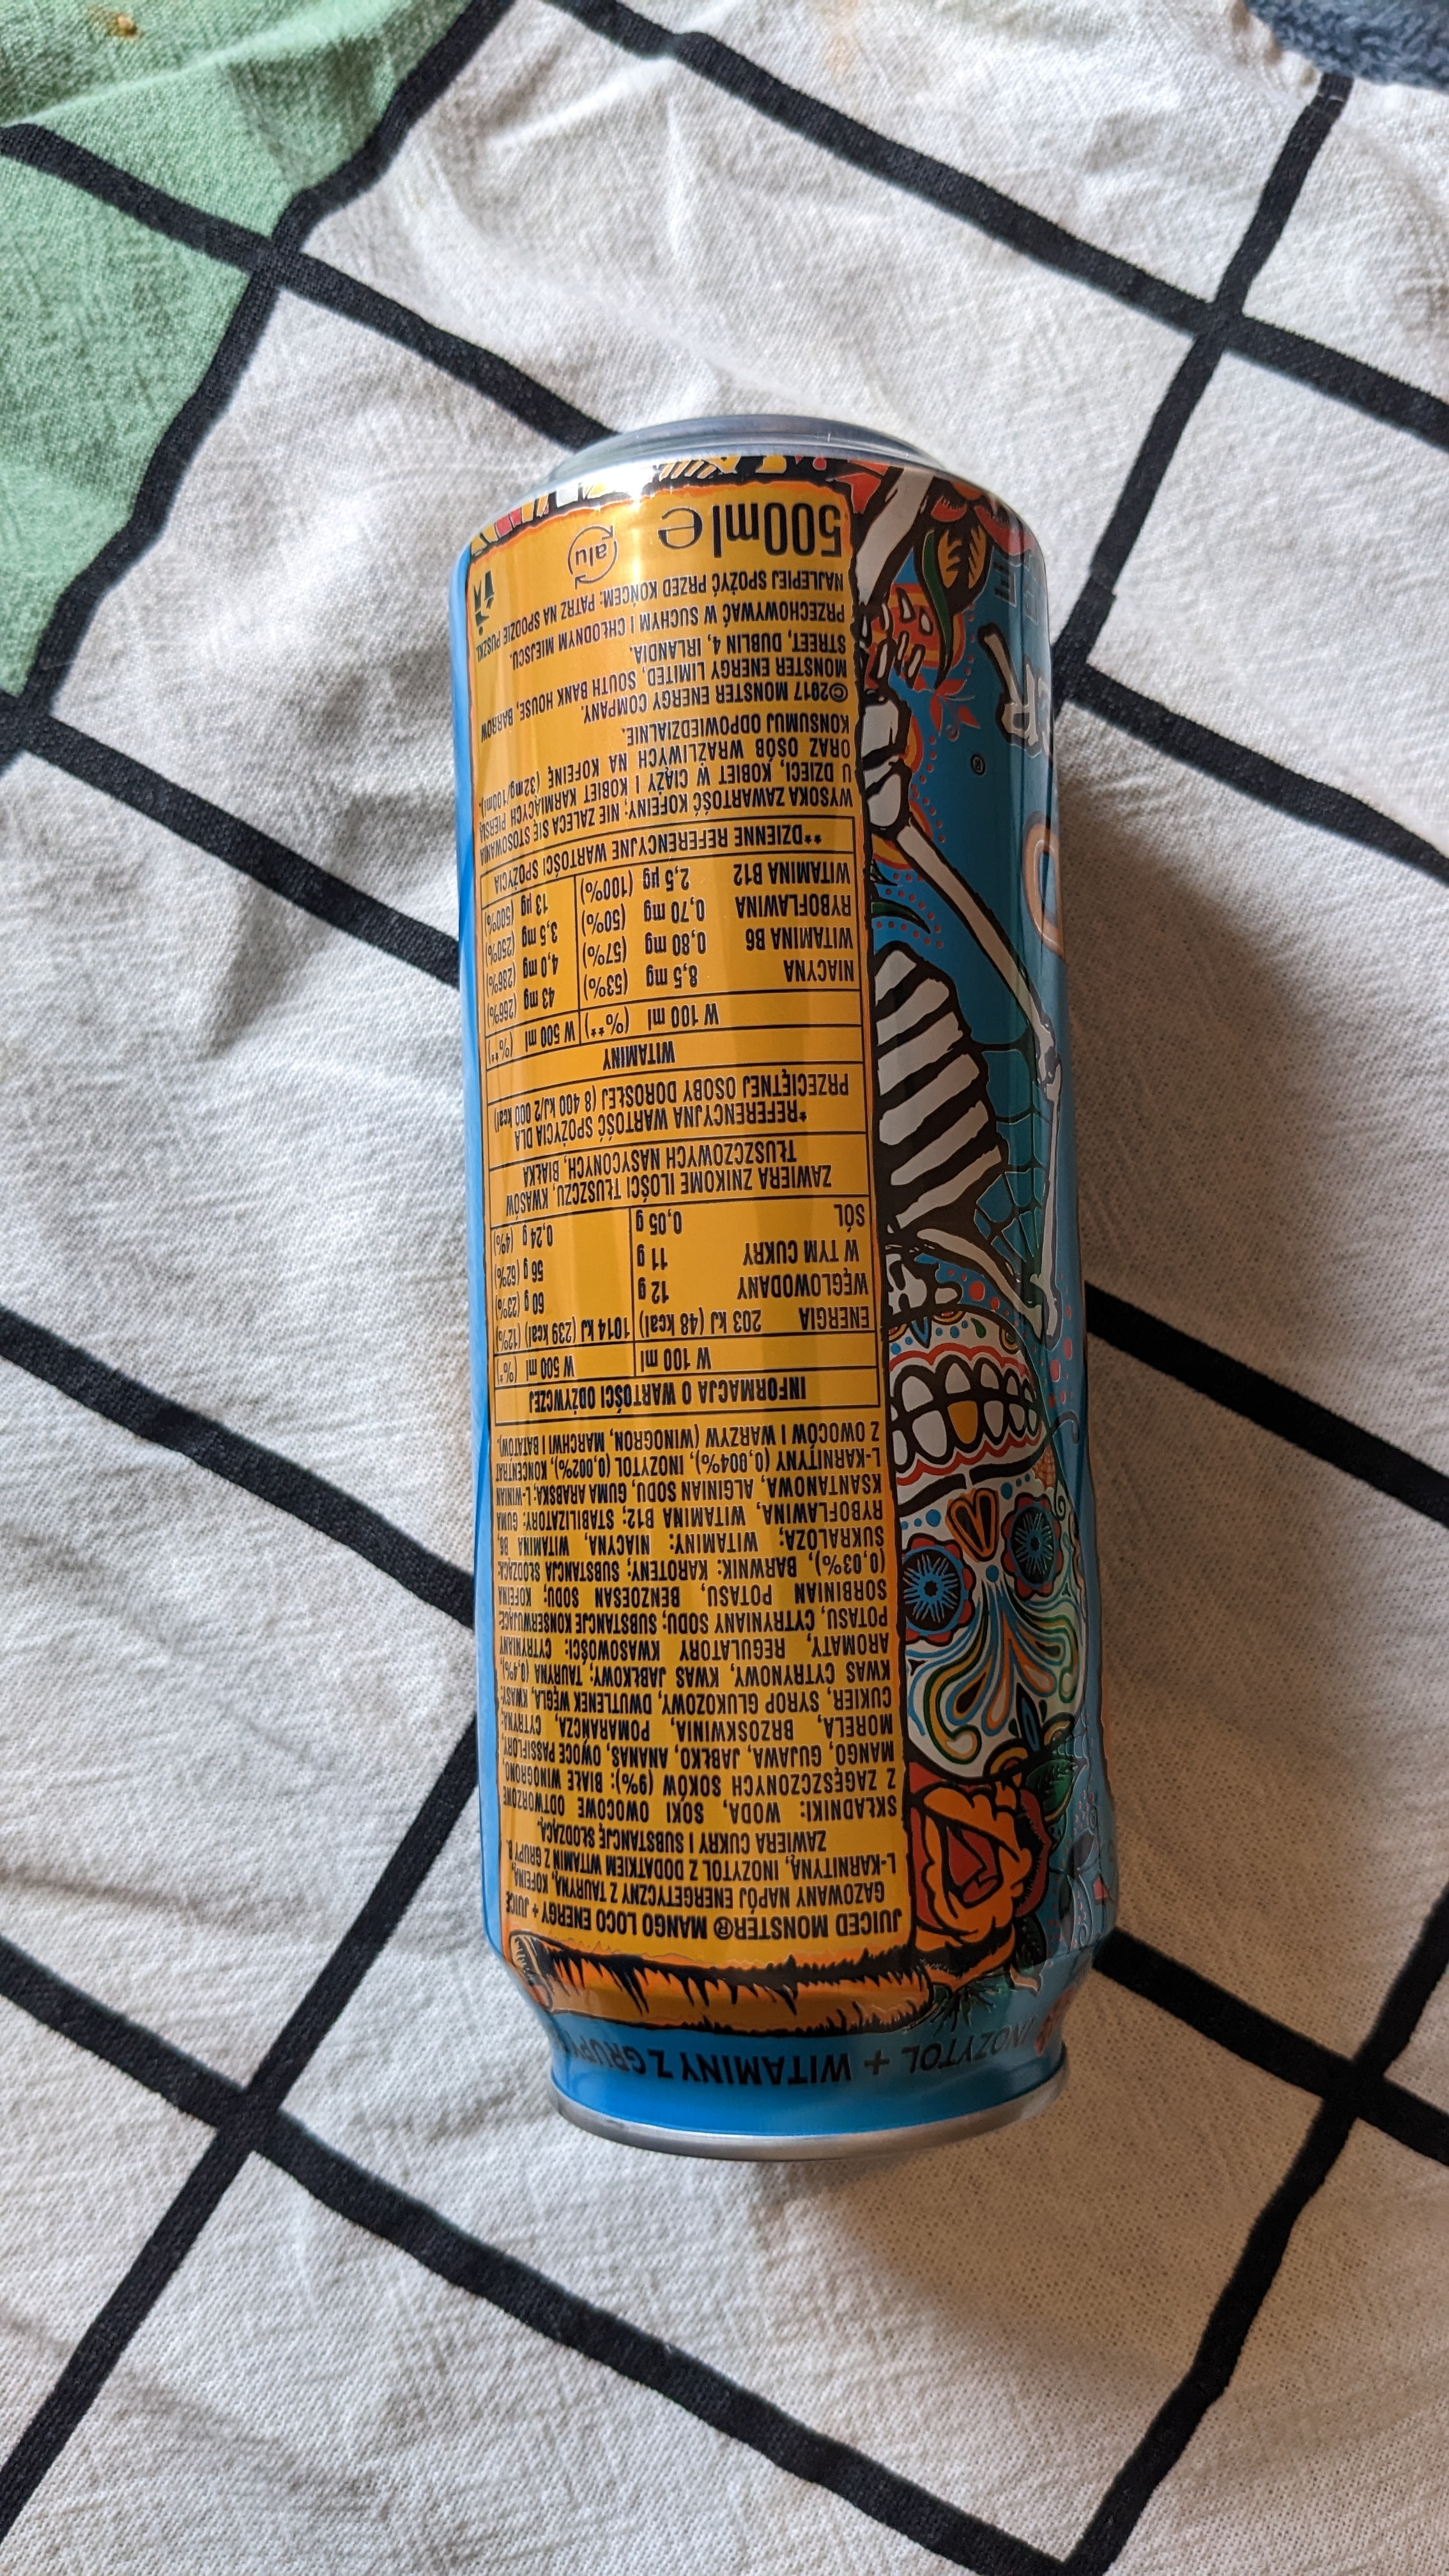monster: (419, 387, 1189, 2204)
